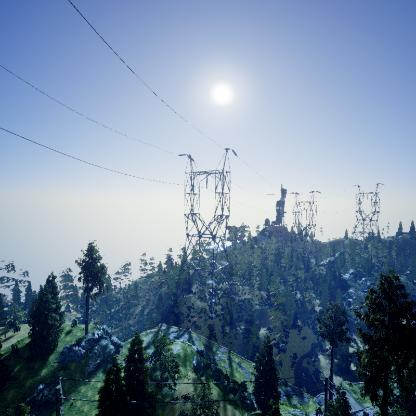tower: (175, 145, 238, 318), (349, 181, 386, 249), (287, 189, 321, 259)
